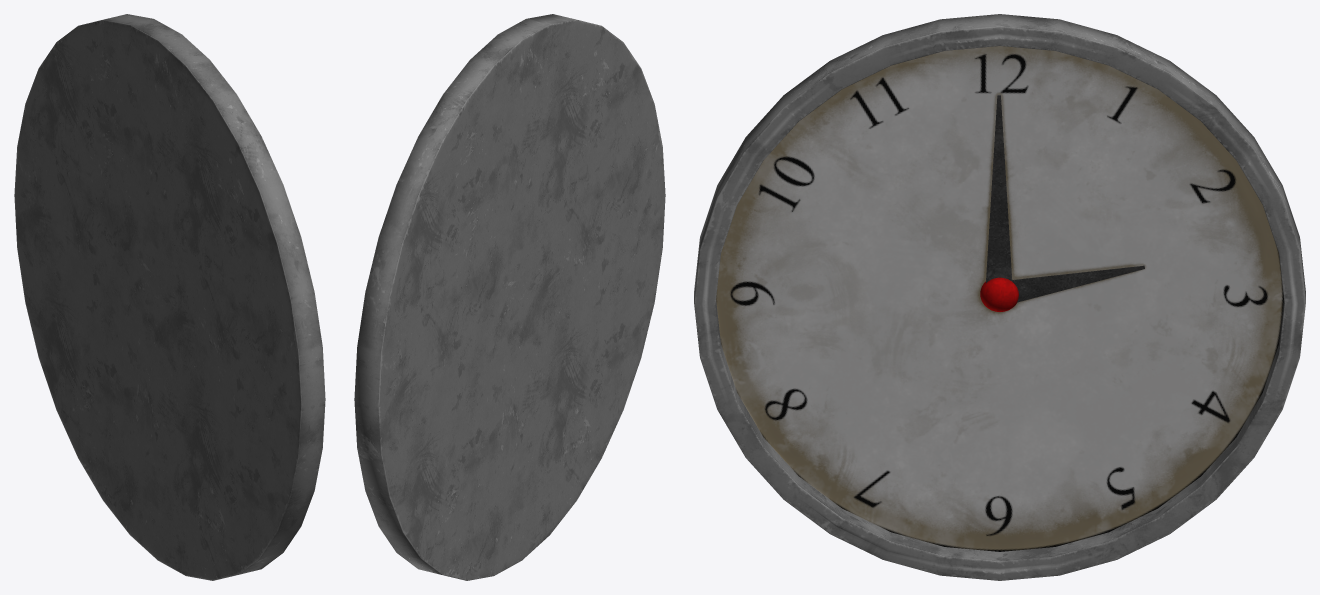
The model's file is clock.glb.
3 renders of one model, left to right at view 1: azimuth 30°, elevation 25°; view 2: azimuth 150°, elevation 25°; view 3: azimuth 270°, elevation 25°, orthographic. The views are drawn at different scales.
Visible parts, largest first — view 1: Cylinder; view 2: Cylinder; view 3: Cylinder.
Boxes of the visible parts, box(x1,y1,x2,y2) form: Cylinder: box(14, 14, 325, 580); Cylinder: box(354, 14, 665, 580); Cylinder: box(694, 14, 1305, 580).
Bounding box in the file's own units: 0.0664 × 1.32 × 1.32.
1 material, 1 textured.
